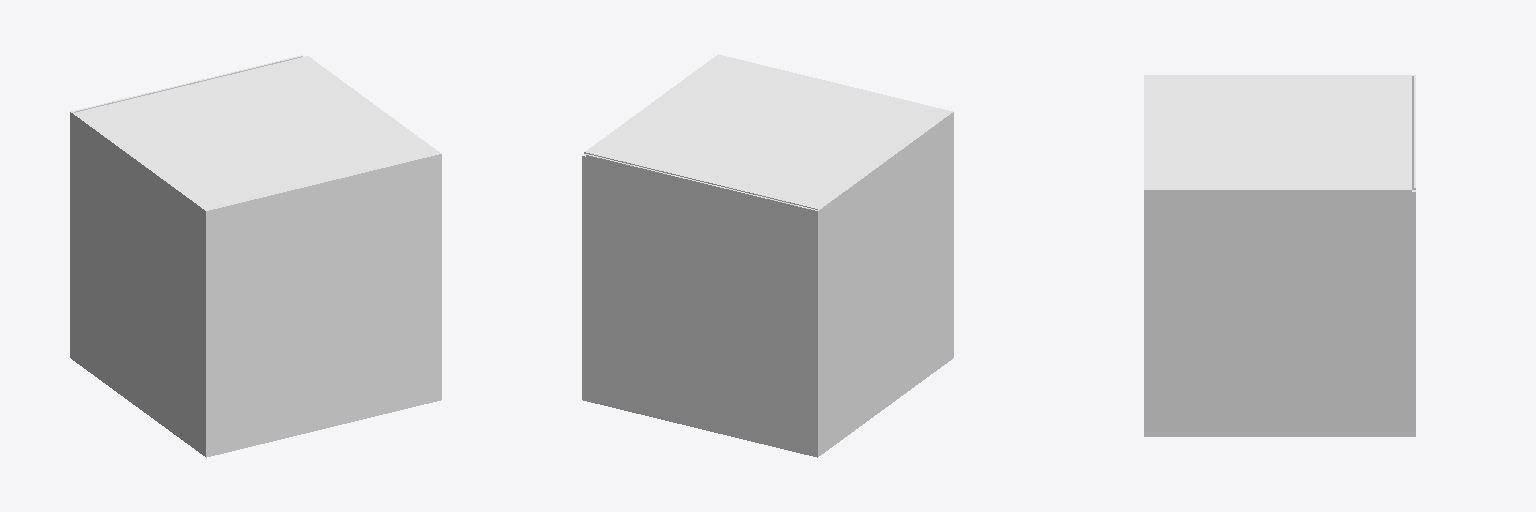
File: skybox.obj
3 renders of one model, left to right at view 1: azimuth 30°, elevation 25°; view 2: azimuth 150°, elevation 25°; view 3: azimuth 270°, elevation 25°, orthographic.
Bounding box in the file's own units: 125 × 125 × 125.